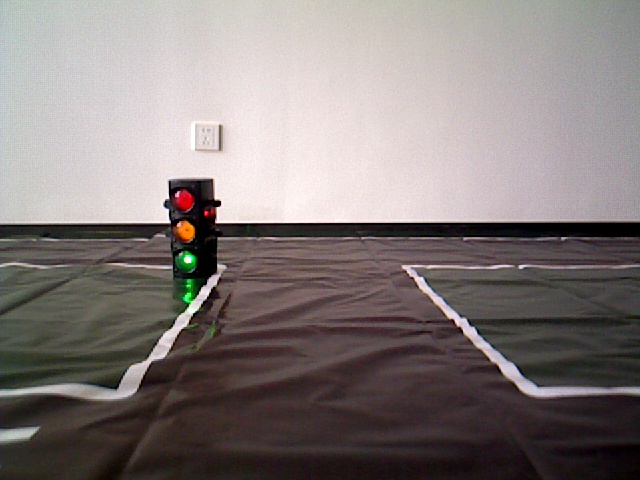green: (168, 182, 209, 268)
